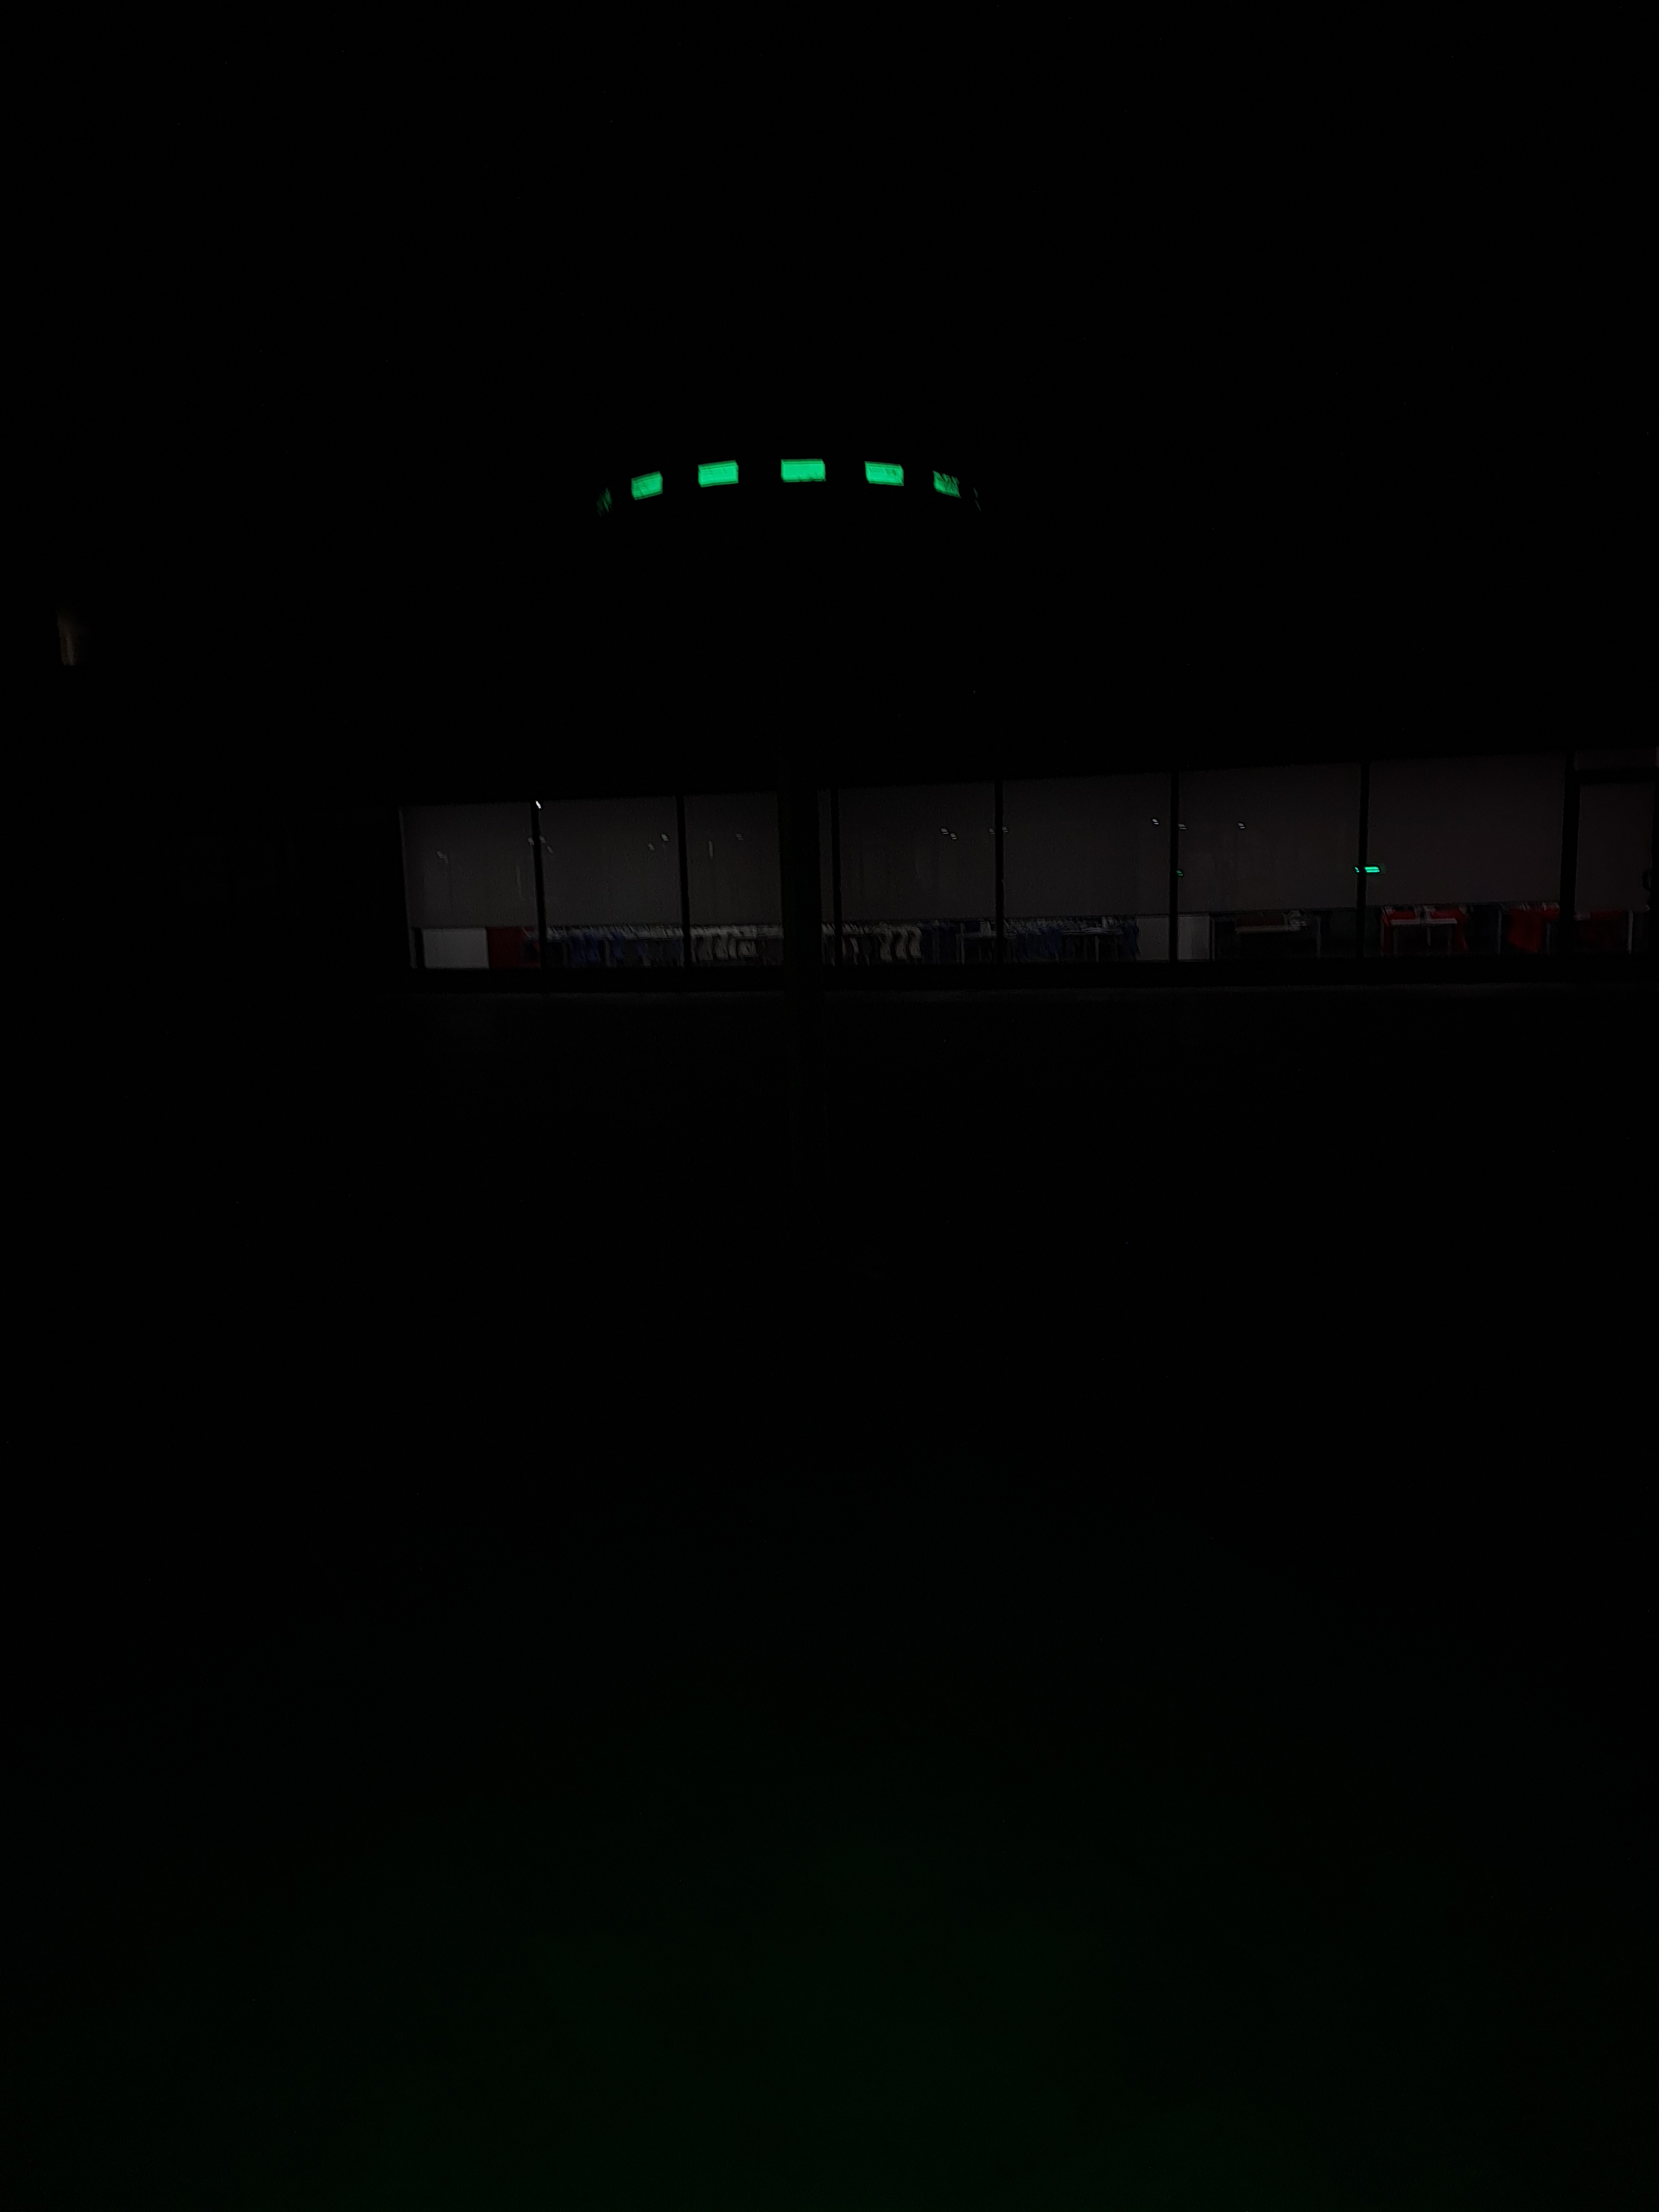hoop: (619, 448, 969, 509)
